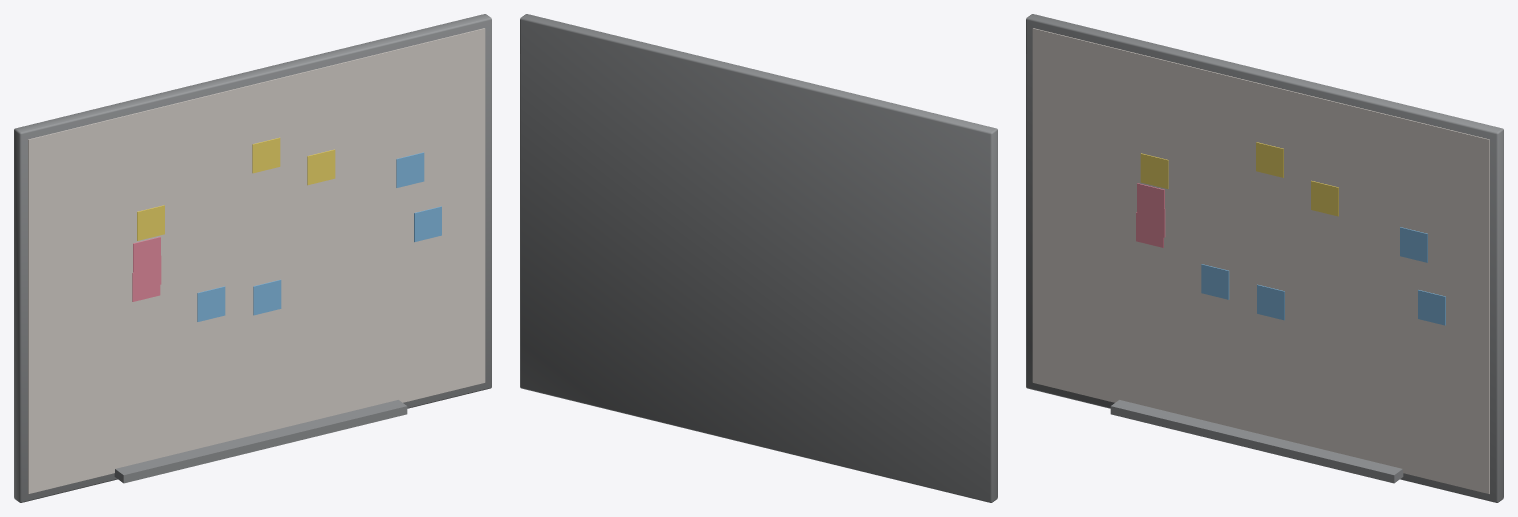
Rendered from tech.whiteboard.glb.
3 views of the same model, side by side, from view 1: azimuth 30°, elevation 25°; view 2: azimuth 150°, elevation 25°; view 3: azimuth 330°, elevation 25° (orthographic).
Visible parts, largest first — view 1: tech.whiteboard.001; view 2: tech.whiteboard.001; view 3: tech.whiteboard.001.
Part boxes in pixels (x1,y1,x2,y2): tech.whiteboard.001: (14, 14, 491, 502); tech.whiteboard.001: (520, 14, 997, 502); tech.whiteboard.001: (1026, 14, 1503, 502).
Bounding box in the file's own units: 1.2 × 0.9 × 0.07.
